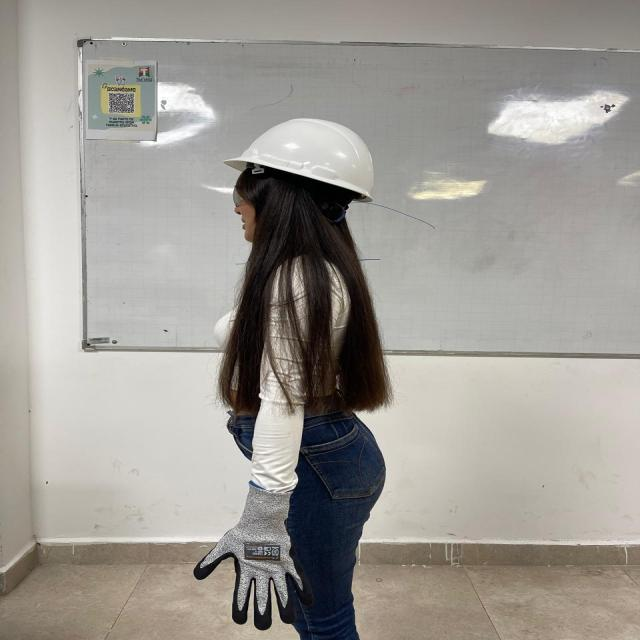gloves: (194, 485, 313, 630)
helmet: (223, 118, 374, 203)
